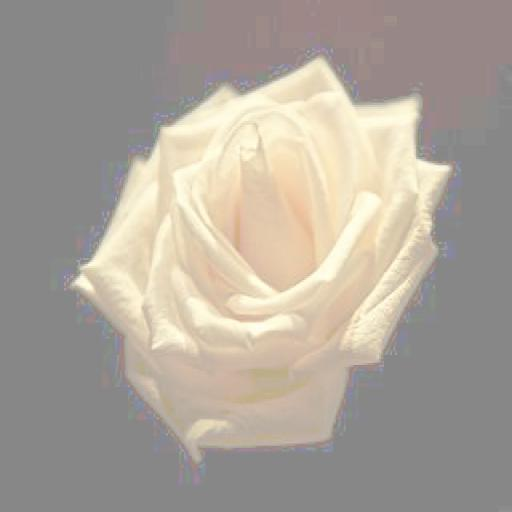rose: (80, 56, 442, 452)
